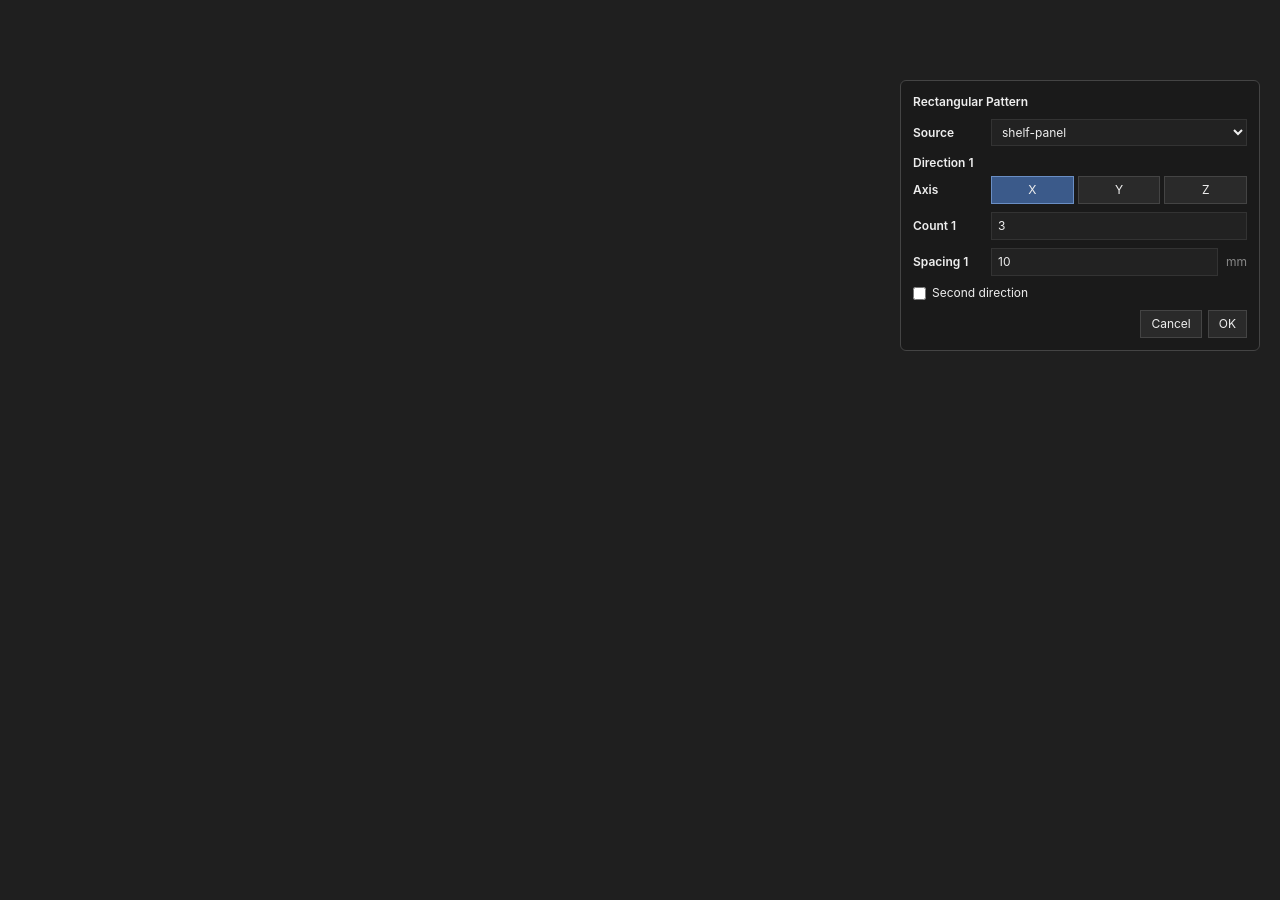
Scenario: ComponentPatternDialog › dir2≠dir1 validation: same axis disables OK when second direction checkbox enabled
Click the checkbox labelled "Second direction": coordinates (920, 293) [913,286,926,300]
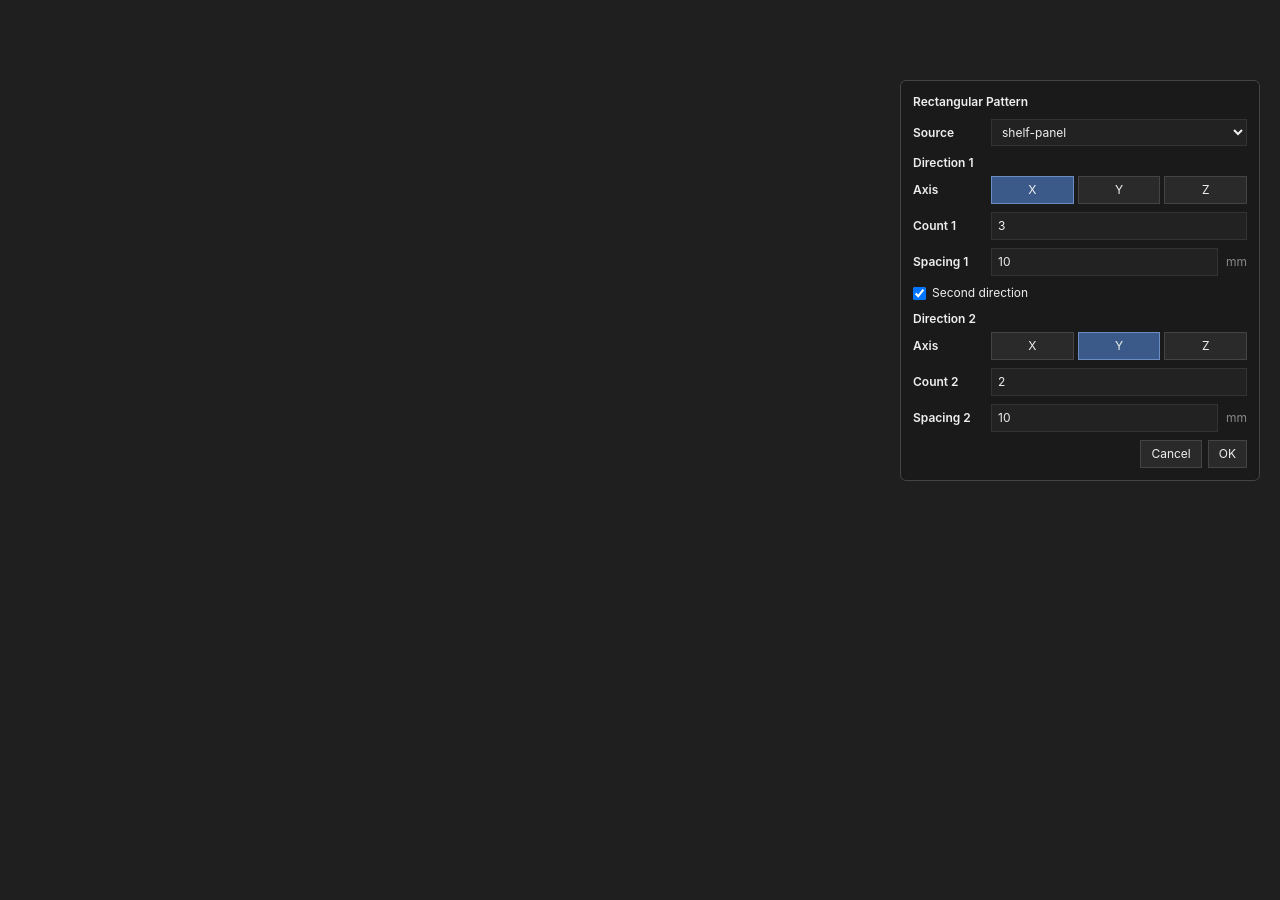
Click the 2nd button "X": coordinates (1032, 346) [991,332,1074,360]
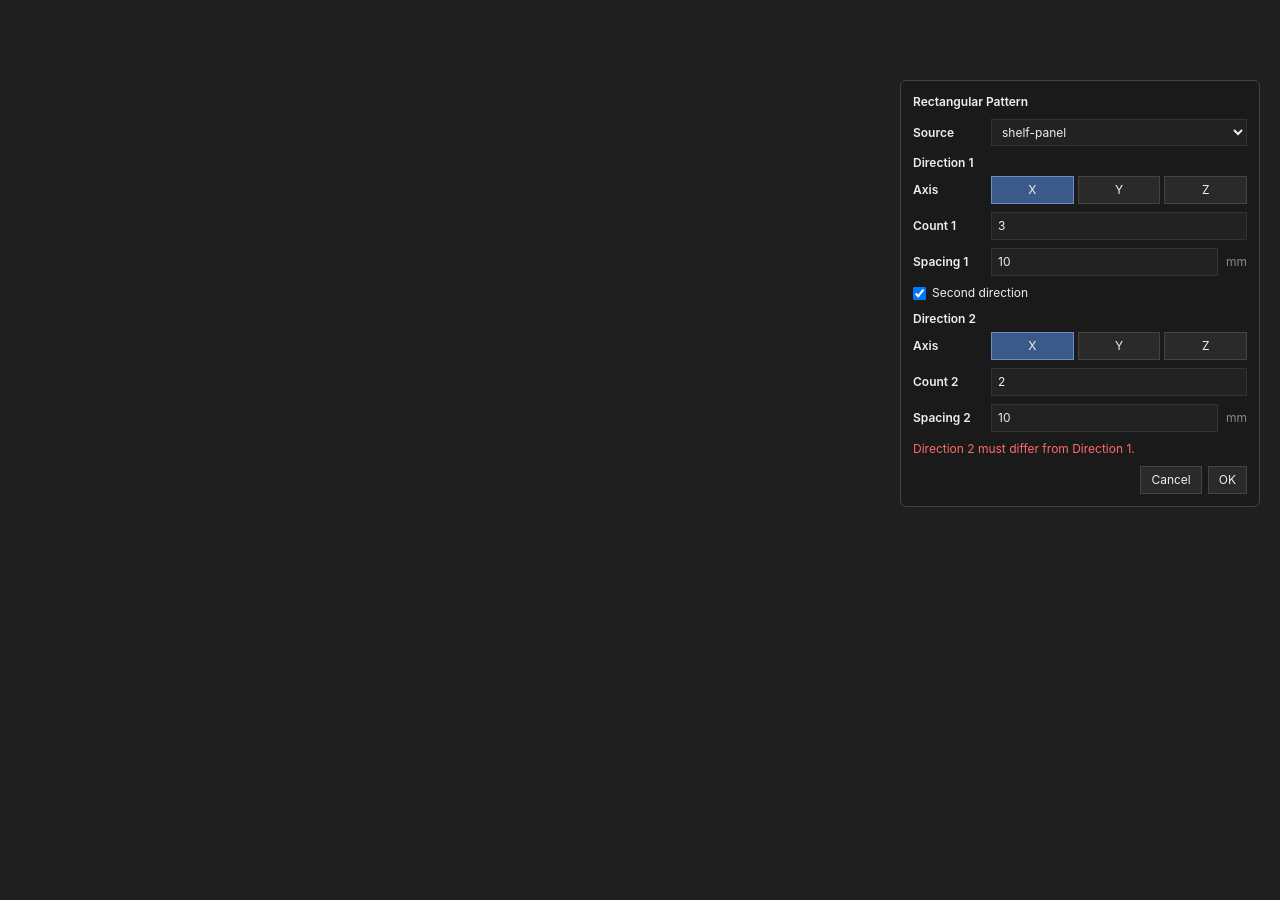
Check: the button "OK" is disabled, box [1208,466,1247,494]
